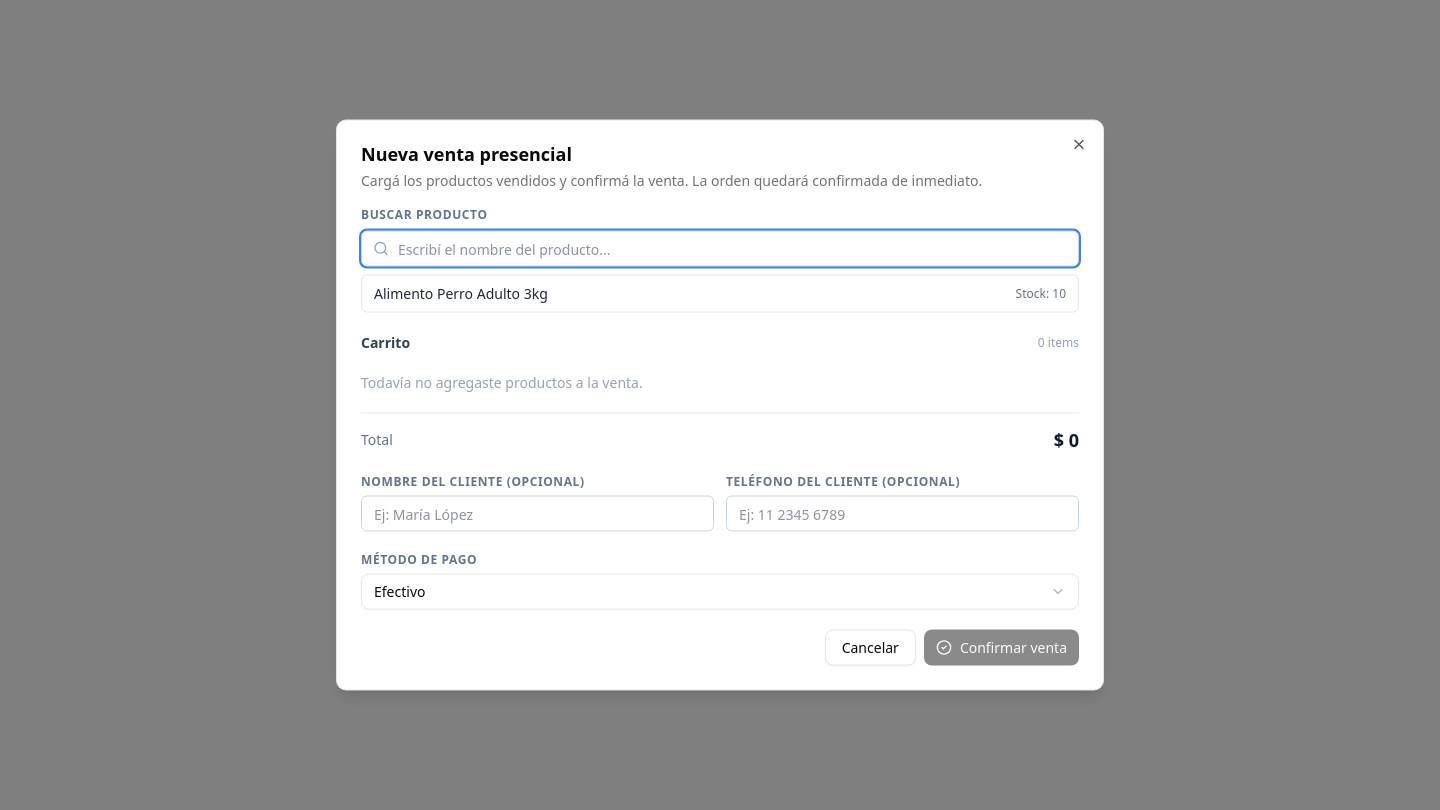
Test: ManualSaleDialog — tabla del carrito (desktop) › lista las 6 columnas del carrito y una fila por ítem agregado
Click the button "Alimento Perro Adulto 3kg Stock: 10" at [461, 293], box [362, 276, 1078, 312]
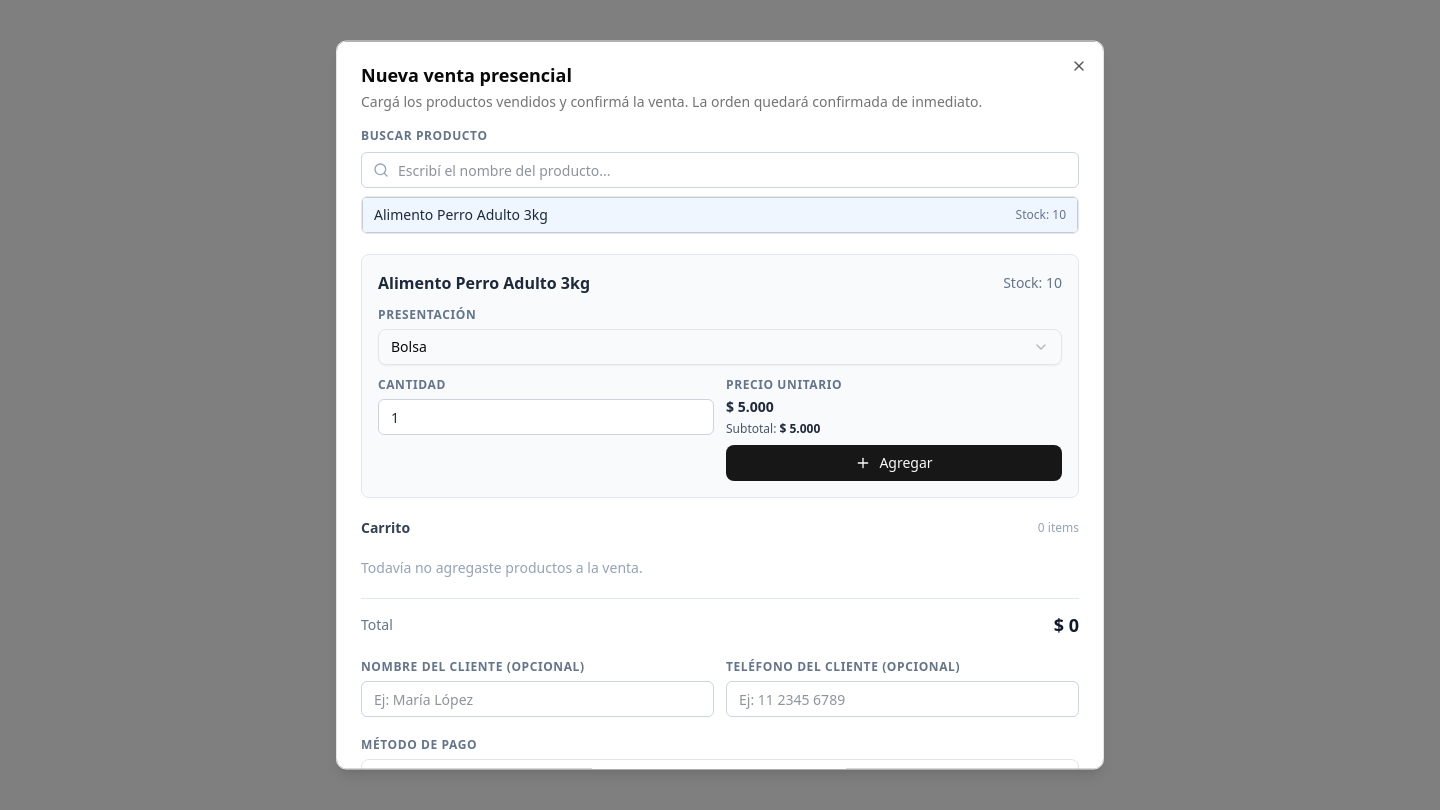
Click the button "Agregar" at [894, 462], box [726, 444, 1062, 480]
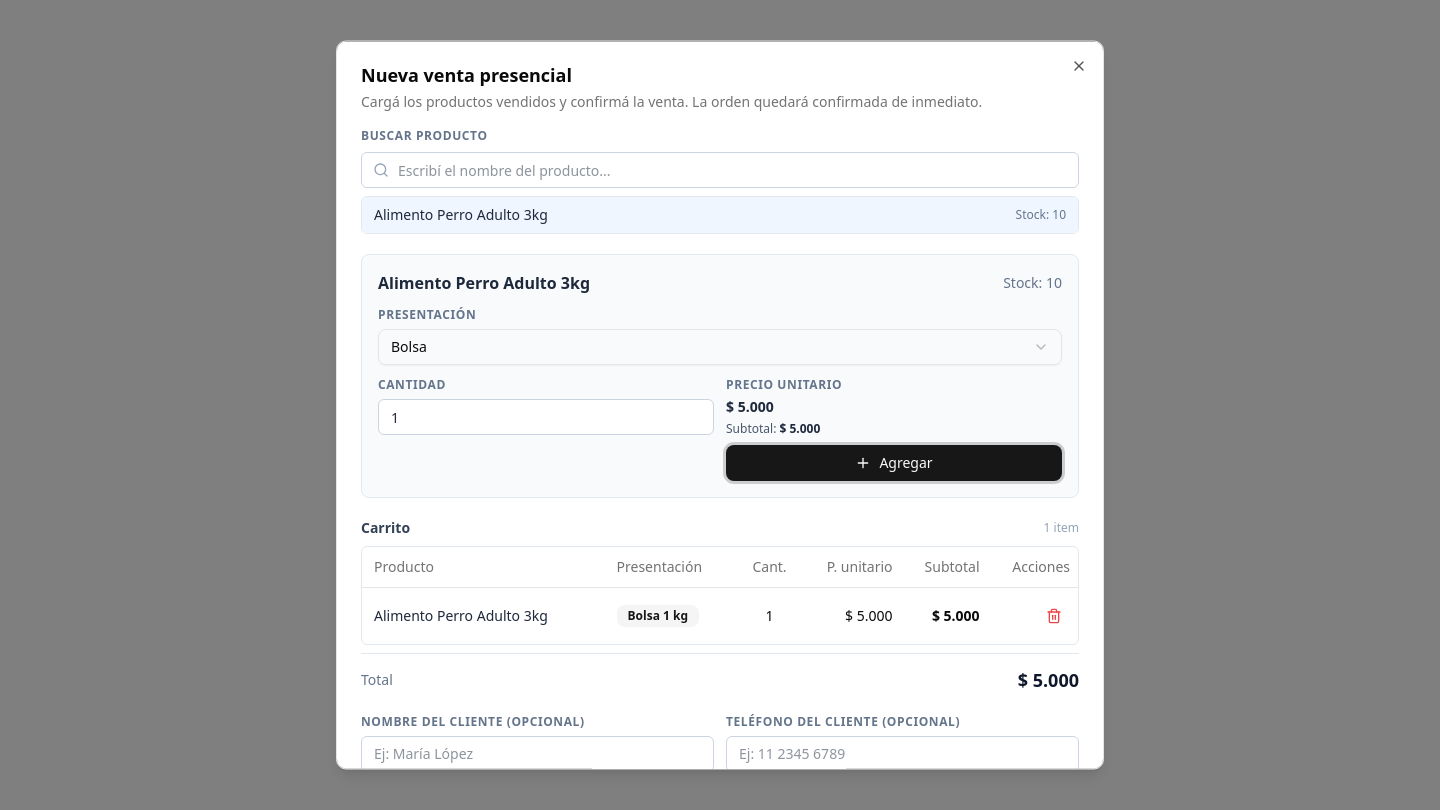
Expected: the column headings read "Producto", "Presentación", "Cant.", "P. unitario", "Subtotal", "Acciones", in this order, [362, 546, 604, 586]; [604, 546, 739, 586]; [739, 546, 800, 586]; [800, 546, 900, 586]; [900, 546, 988, 586]; [988, 546, 1078, 586]
Expected: the number of rows is 2, [362, 546, 1078, 586]; [362, 586, 1078, 643]
Expected: the row "Alimento Perro Adulto 3kg Bolsa 1 kg 1 $ 5.000 $ 5.000" is shown, [362, 586, 1078, 643]
